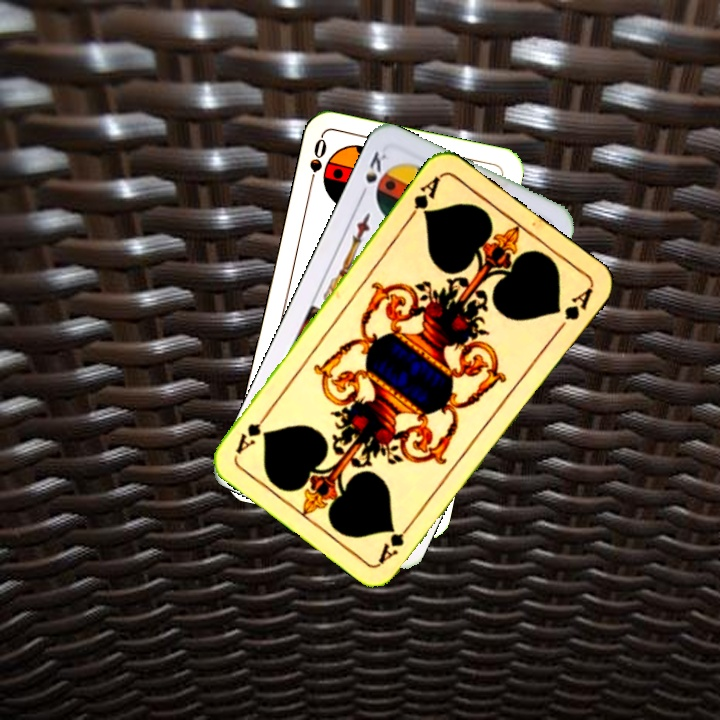GA: (374, 515, 417, 567), (404, 172, 443, 224)
SK: (355, 147, 392, 202)
SO: (304, 134, 330, 193)
